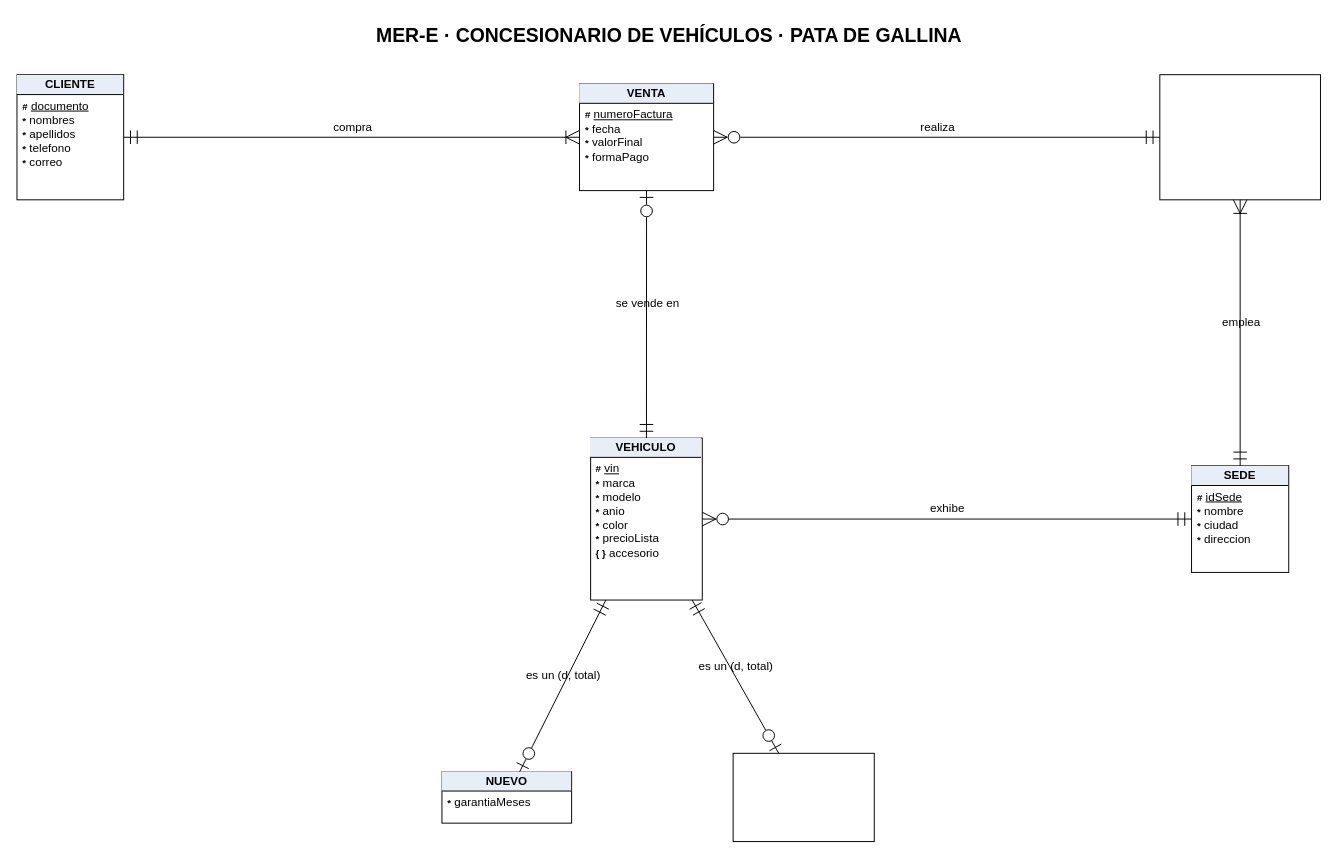
Image size: 1338x859. Some labels were removed from this diagram. Here are the shapes that lost their labels. From the top down, the box of each, then its label:
(1159, 74, 1320, 200): VENDEDOR # idVendedor * nombre * porcentajeComision * fechaIngreso / antiguedad
(732, 752, 874, 842): USADO * kilometraje * placa * numPropietarios
